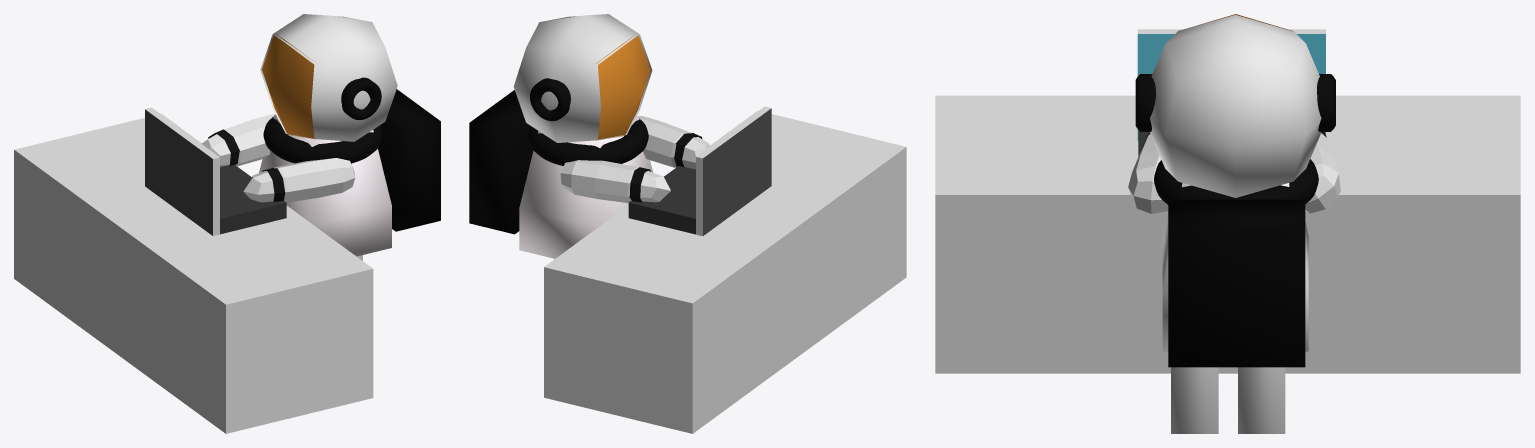
The model's file is astronaut-small.glb.
The picture shows the model from 3 angles, left to right: view 1: azimuth 30°, elevation 25°; view 2: azimuth 150°, elevation 25°; view 3: azimuth 270°, elevation 25°; orthographic projection. The views are drawn at different scales.
Parts seen in each view (by area): view 1: Cube.009, Cube, Cube.006, Cube.002, Cube.018, Cube.001, Cube.004, Cube.011, Torus, Cube.007, Cylinder, Cube.015 (+1 smaller); view 2: Cube.009, Cube, Cube.006, Cube.002, Cube.018, Cube.001, Cube.007, Torus, Cube.011, Cube.004, Cylinder, Cube.017; view 3: Cube.009, Cube, Cube.006, Cube.003, Torus, Cylinder, Cube.004, Cube.019, Cube.007, Cube.002.
Part boxes in pixels (<box>): Cube.009: <box>14,113,373,433</box>; Cube: <box>260,14,397,141</box>; Cube.006: <box>378,89,440,231</box>; Cube.002: <box>259,115,391,256</box>; Cube.018: <box>145,109,212,235</box>; Cube.001: <box>262,33,315,139</box>; Cube.004: <box>243,158,355,202</box>; Cube.011: <box>220,164,286,234</box>; Torus: <box>263,117,382,163</box>; Cube.007: <box>201,114,275,166</box>; Cylinder: <box>341,77,381,120</box>; Cube.015: <box>213,157,219,235</box>; Cube.009: <box>544,110,906,433</box>; Cube: <box>513,14,652,142</box>; Cube.006: <box>469,90,533,234</box>; Cube.002: <box>519,116,653,258</box>; Cube.018: <box>703,108,771,235</box>; Cube.001: <box>596,33,650,140</box>; Cube.007: <box>560,160,670,202</box>; Torus: <box>528,118,648,165</box>; Cube.011: <box>628,166,695,234</box>; Cube.004: <box>638,116,709,169</box>; Cylinder: <box>530,78,570,121</box>; Cube.017: <box>696,106,771,236</box>; Cube.009: <box>935,95,1520,373</box>; Cube: <box>1150,14,1321,197</box>; Cube.006: <box>1168,199,1305,367</box>; Cube.003: <box>1171,367,1285,433</box>; Torus: <box>1154,159,1318,204</box>; Cylinder: <box>1135,74,1335,131</box>; Cube.004: <box>1128,134,1168,213</box>; Cube.019: <box>1137,34,1325,140</box>; Cube.007: <box>1305,133,1340,213</box>; Cube.002: <box>1162,183,1308,351</box>.
Bounding box in the file's own units: 2.2 × 2.07 × 2.7.
